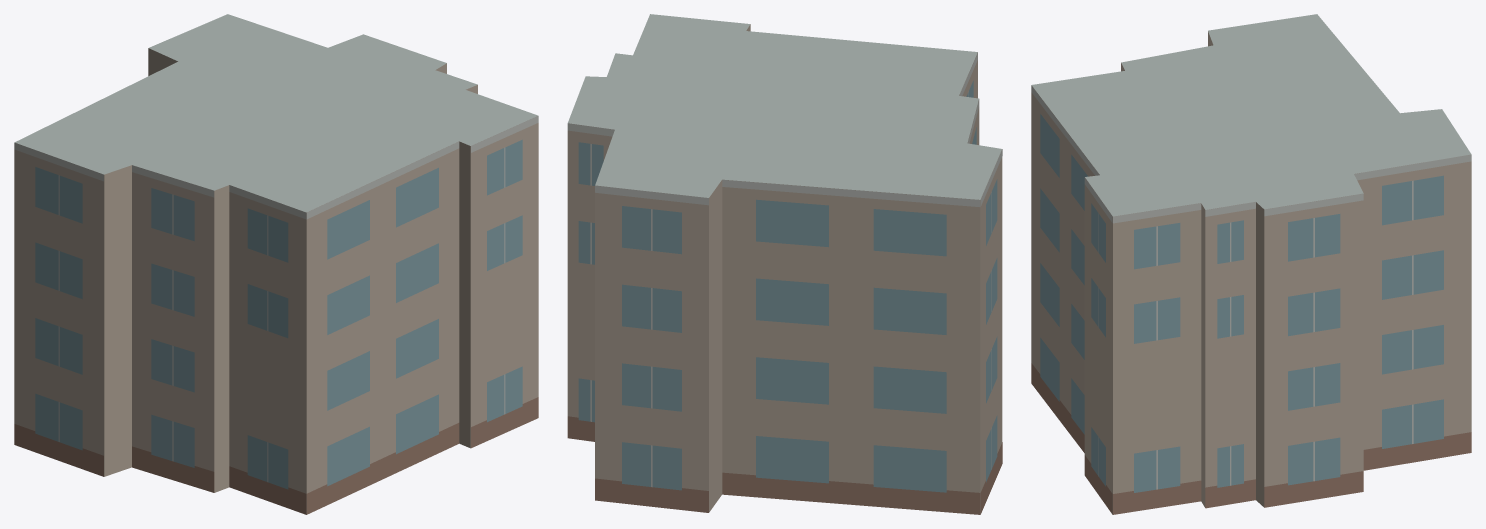
File: survey-upis-32808163.glb
The picture shows the model from 3 angles, left to right: view 1: azimuth 30°, elevation 25°; view 2: azimuth 150°, elevation 25°; view 3: azimuth 270°, elevation 25°; orthographic projection. The views are drawn at different scales.
Parts seen in each view (by area): view 1: survey-upis-32808163.tmp; view 2: survey-upis-32808163.tmp; view 3: survey-upis-32808163.tmp.
Boxes of the visible parts, <box> form: survey-upis-32808163.tmp: <box>14,14,538,514</box>; survey-upis-32808163.tmp: <box>567,14,1002,514</box>; survey-upis-32808163.tmp: <box>1031,14,1471,514</box>.
Size of the model in its own units: 15.3 by 10.5 by 14.06.
